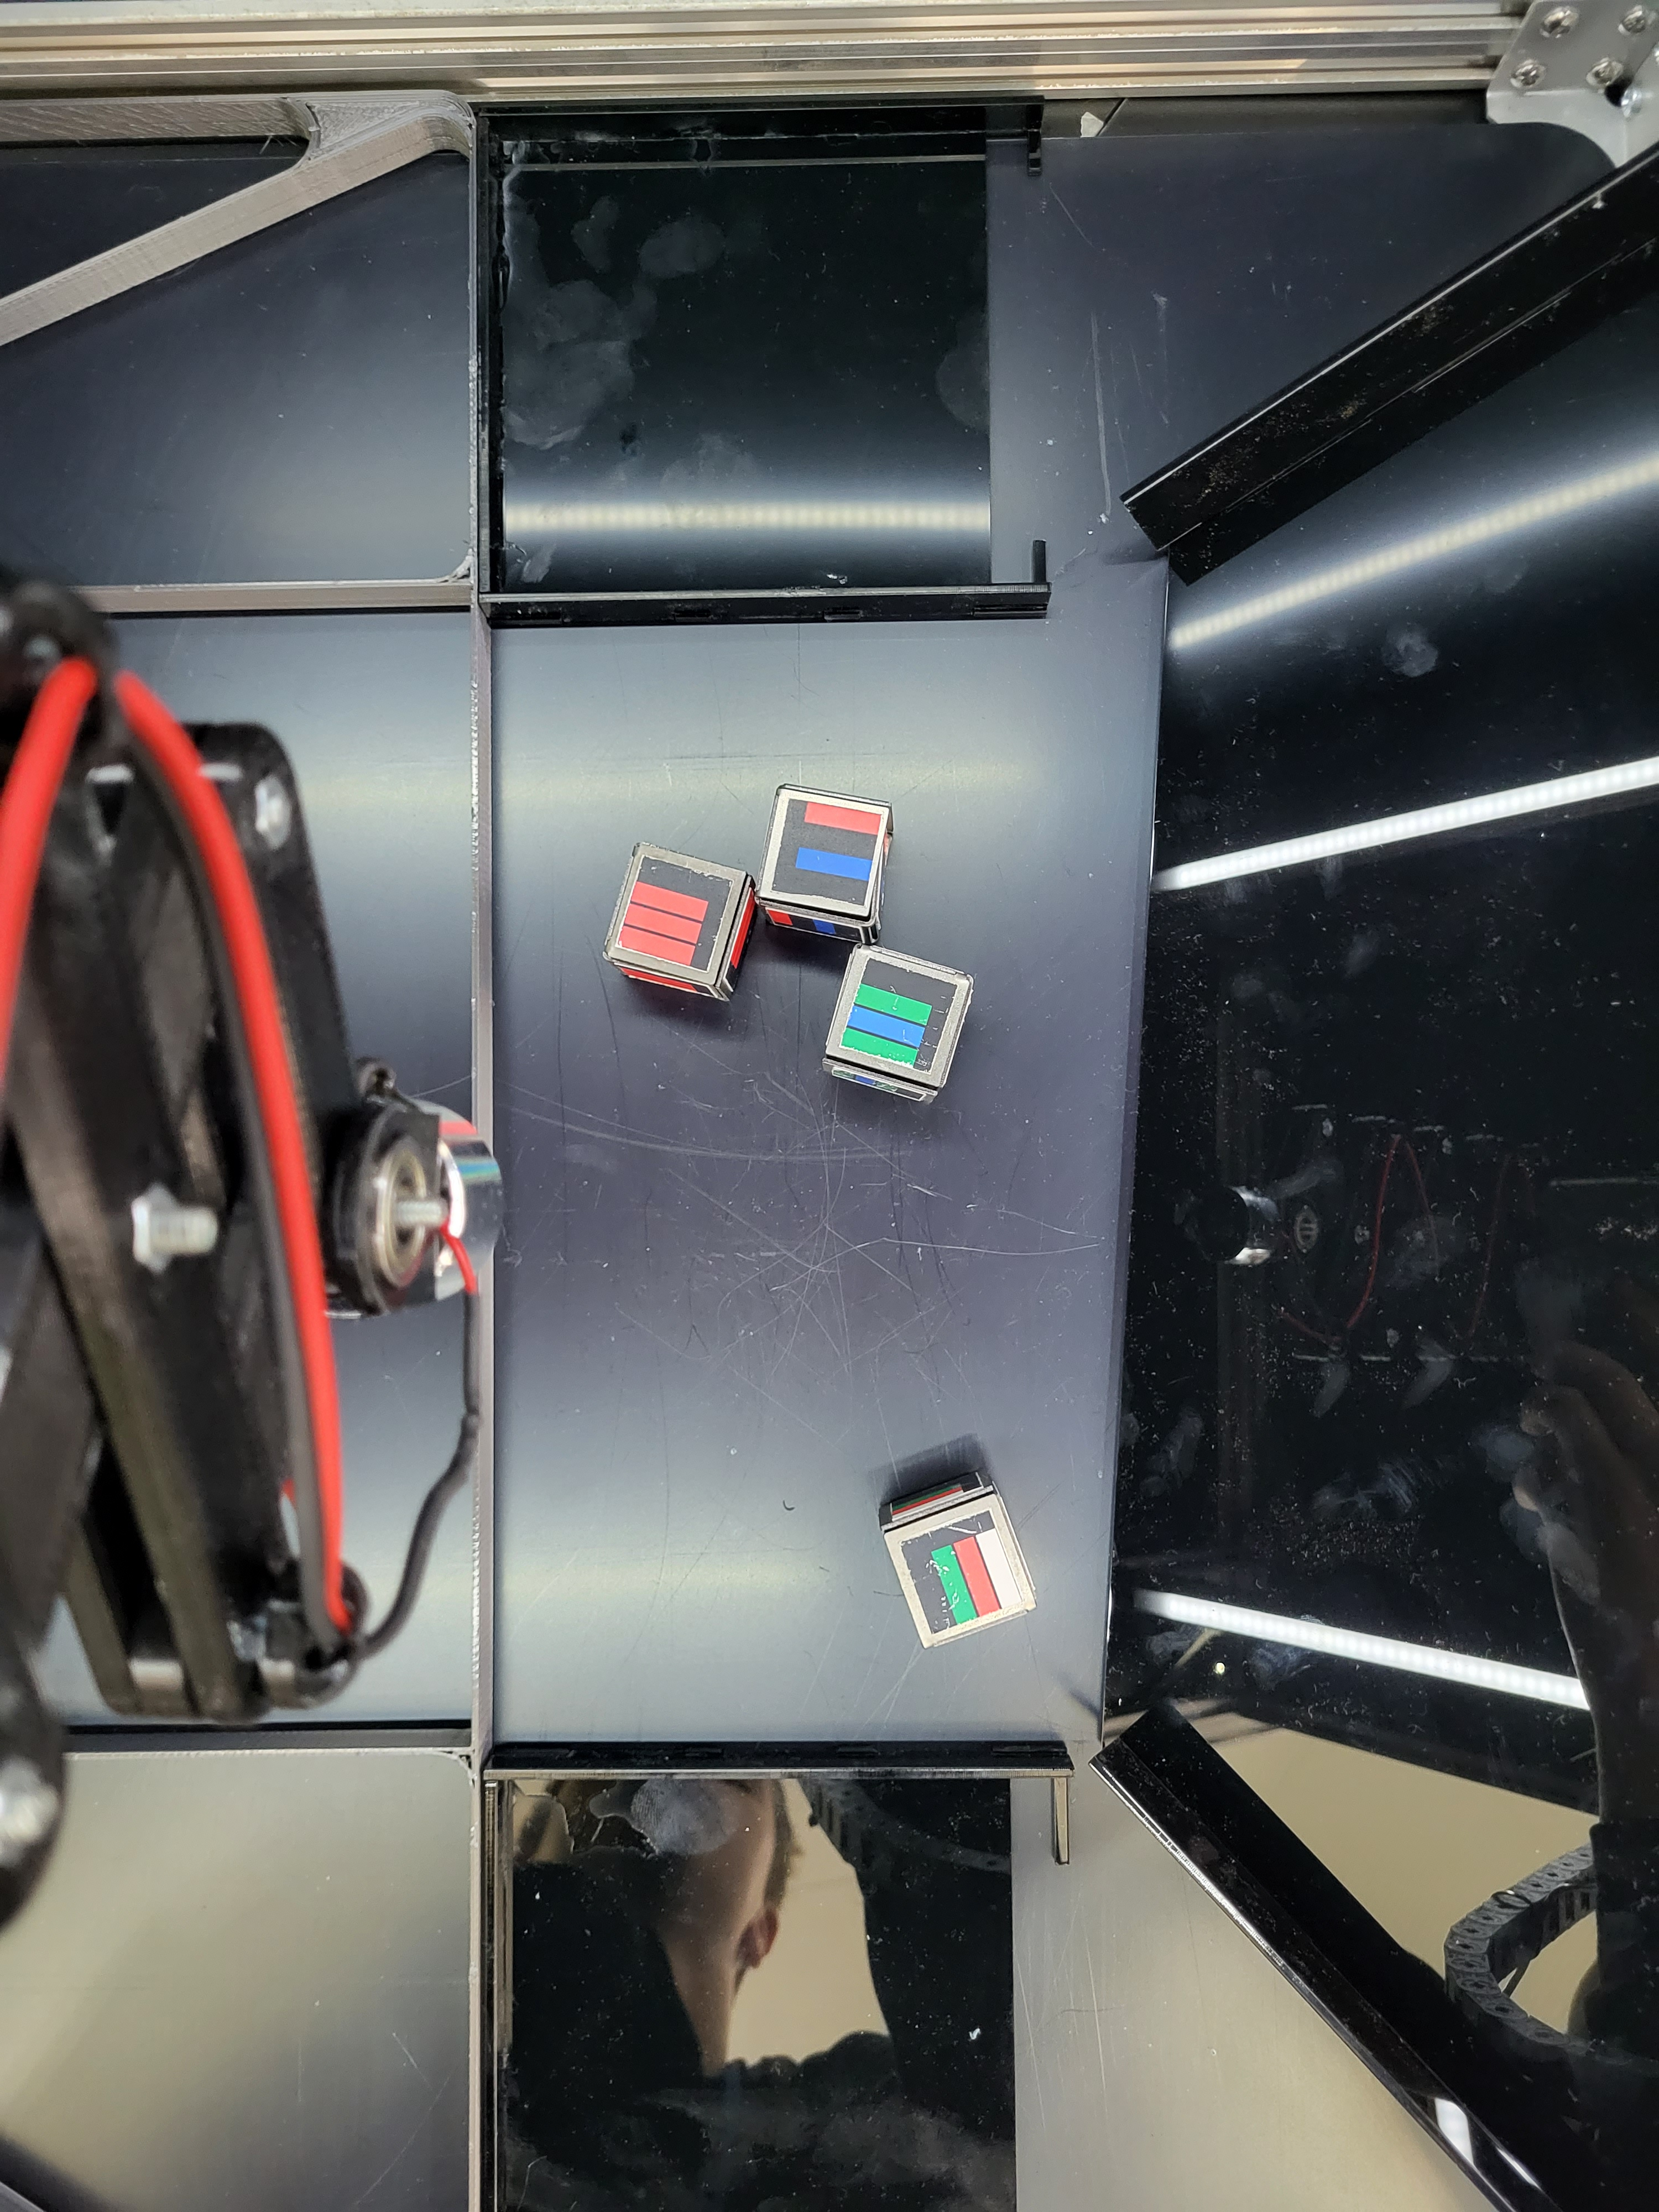Cube: (802, 927, 986, 1129), (861, 1460, 1040, 1656), (587, 829, 753, 1007), (753, 766, 915, 932)
